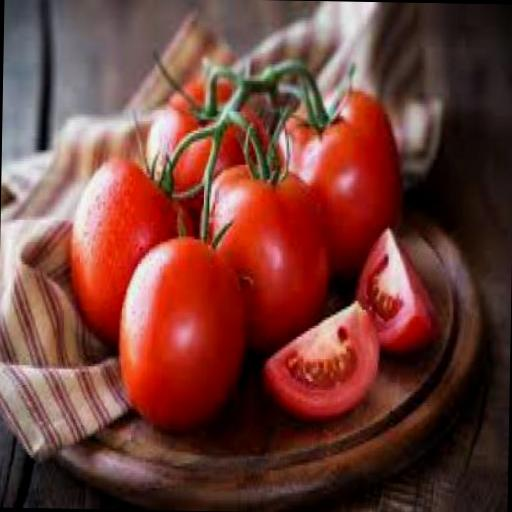biodegradable: (64, 150, 202, 358), (116, 232, 248, 436), (202, 158, 328, 342), (277, 84, 400, 271), (140, 73, 282, 213), (255, 294, 377, 422), (352, 228, 438, 350)
